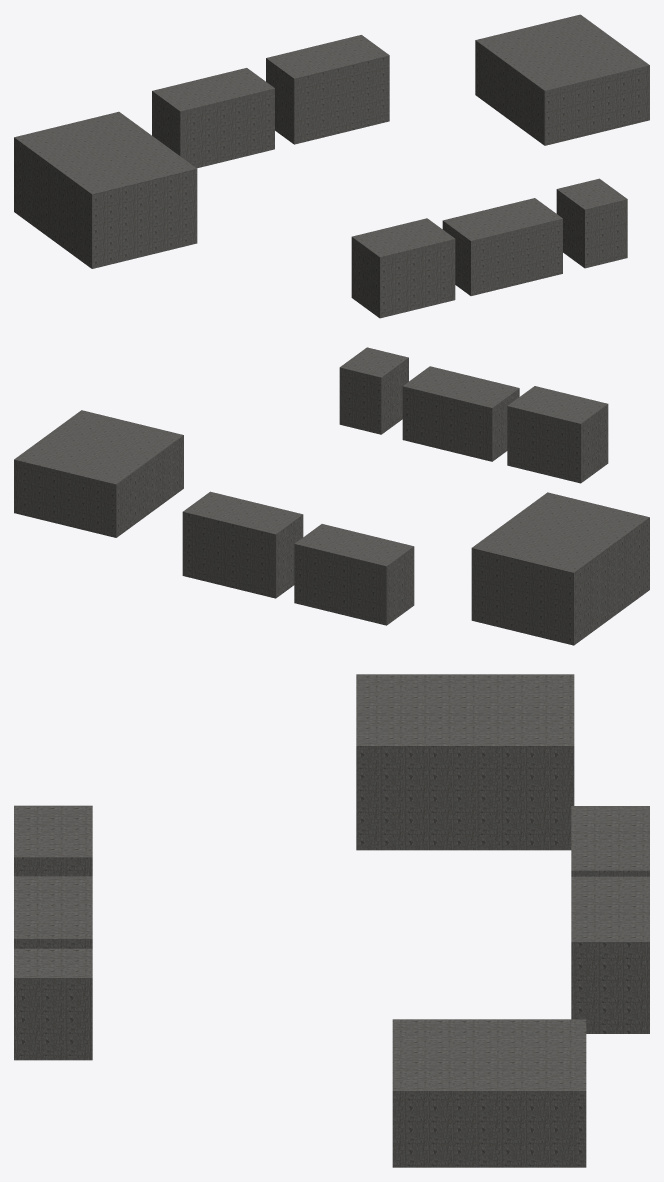
Rendered from prop_hk_greybox.glb.
The picture shows the model from 3 angles, top to bottom: view 1: azimuth 30°, elevation 25°; view 2: azimuth 150°, elevation 25°; view 3: azimuth 270°, elevation 25°; orthographic projection. The views are drawn at different scales.
Visible parts, largest first — view 1: hk_greybox; view 2: hk_greybox; view 3: hk_greybox.
Part boxes in pixels (x1,y1,x2,y2): hk_greybox: [14, 14, 649, 318]; hk_greybox: [14, 347, 649, 645]; hk_greybox: [14, 674, 649, 1167].
Size of the model in its own units: 76 by 9.5 by 52.5.
Materials: 1 (1 with a texture image).
